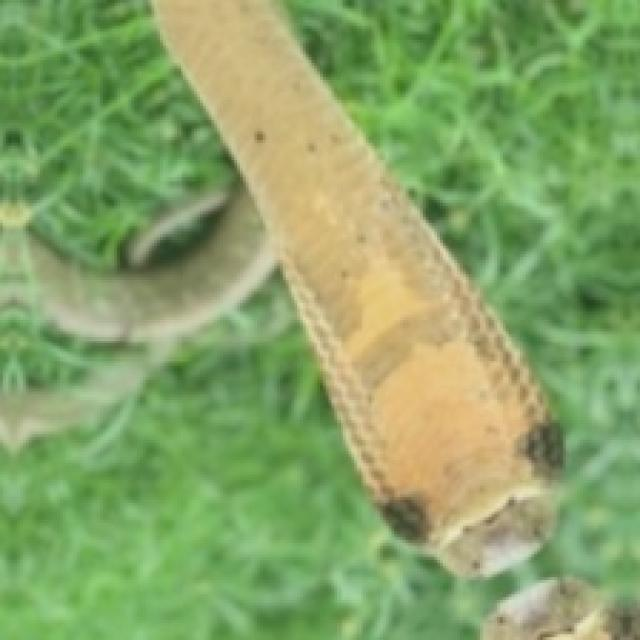king cobra: (154, 0, 560, 574)
